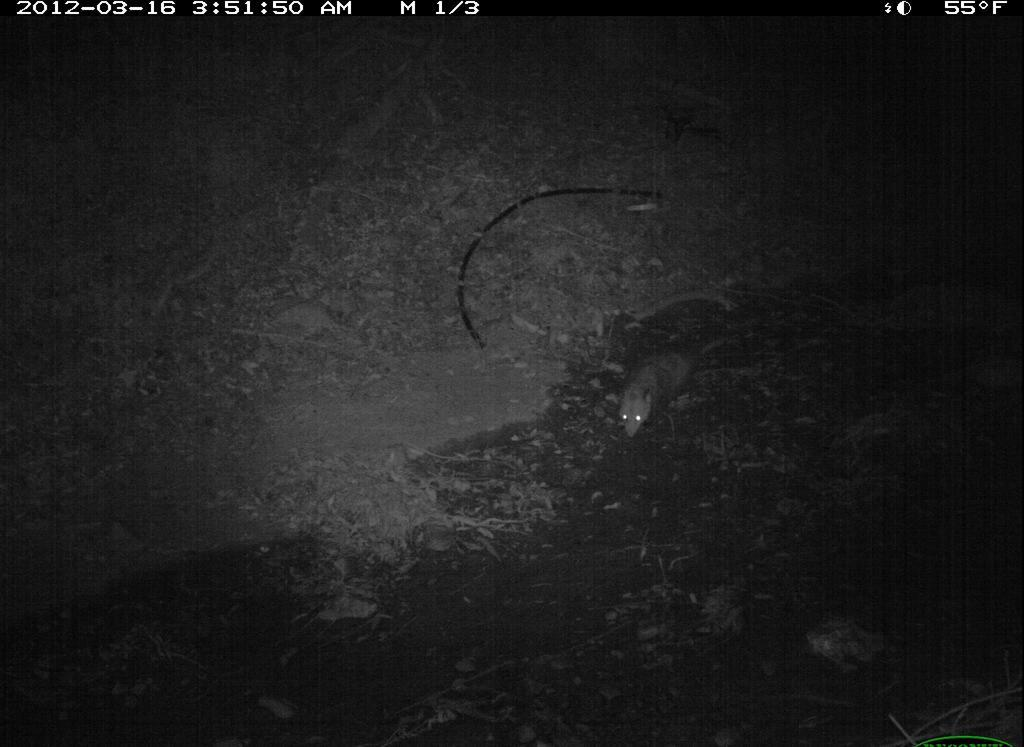opossum: (602, 326, 739, 451)
